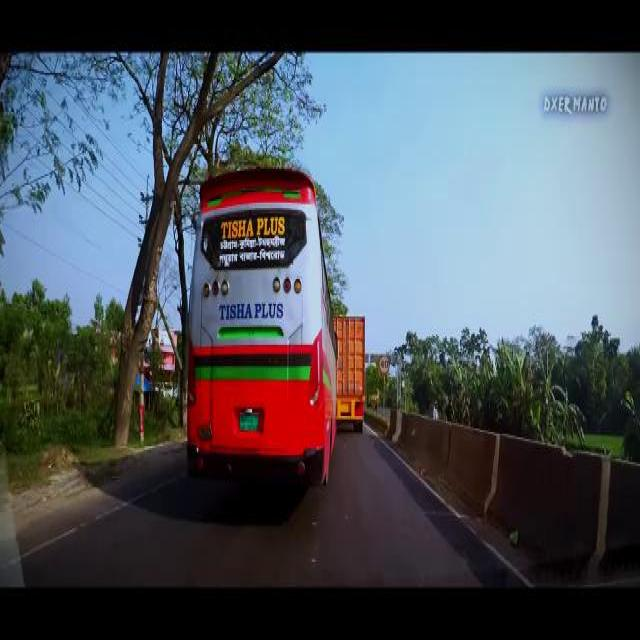bus: (184, 161, 338, 493)
truck: (334, 308, 366, 436)
